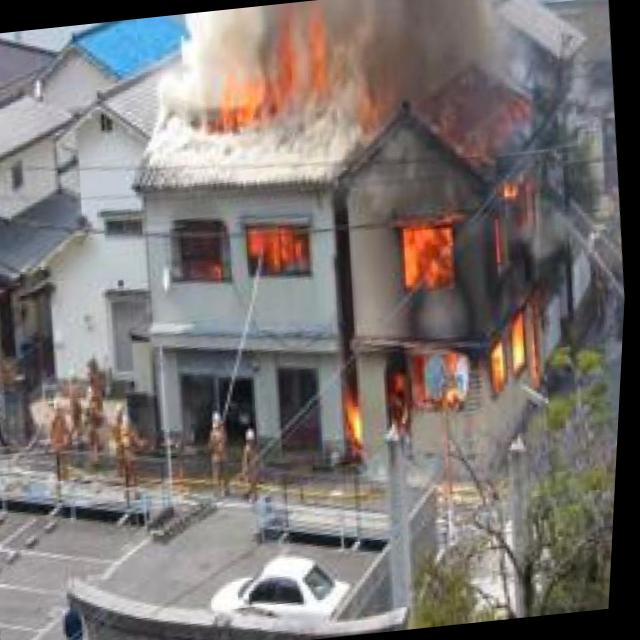Fire: (319, 163, 574, 452), (186, 24, 331, 132), (204, 213, 314, 279)
